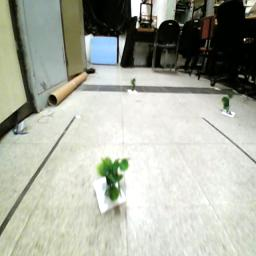herb: (99, 155, 130, 202), (222, 93, 235, 118), (132, 78, 137, 92)
